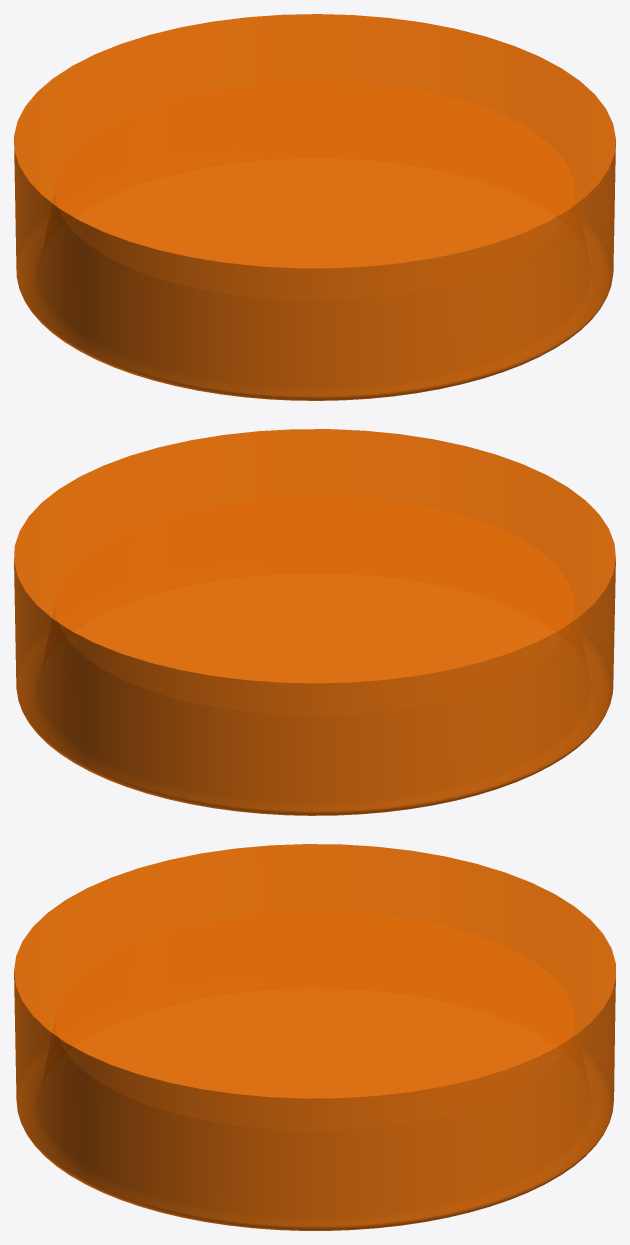
File: Insert 1.0' Round, Smooth (PL-1R).fbx
The picture shows the model from 3 angles, top to bottom: view 1: azimuth 30°, elevation 25°; view 2: azimuth 150°, elevation 25°; view 3: azimuth 270°, elevation 25°; orthographic projection.
Parts seen in each view (by area): view 1: Insert 1' Round, Smooth; view 2: Insert 1' Round, Smooth; view 3: Insert 1' Round, Smooth.
Boxes of the visible parts, <box> form: Insert 1' Round, Smooth: <box>14,14,615,400</box>; Insert 1' Round, Smooth: <box>14,429,615,815</box>; Insert 1' Round, Smooth: <box>14,844,615,1230</box>.
Bounding box in the file's own units: 2.54 × 0.635 × 2.54.
